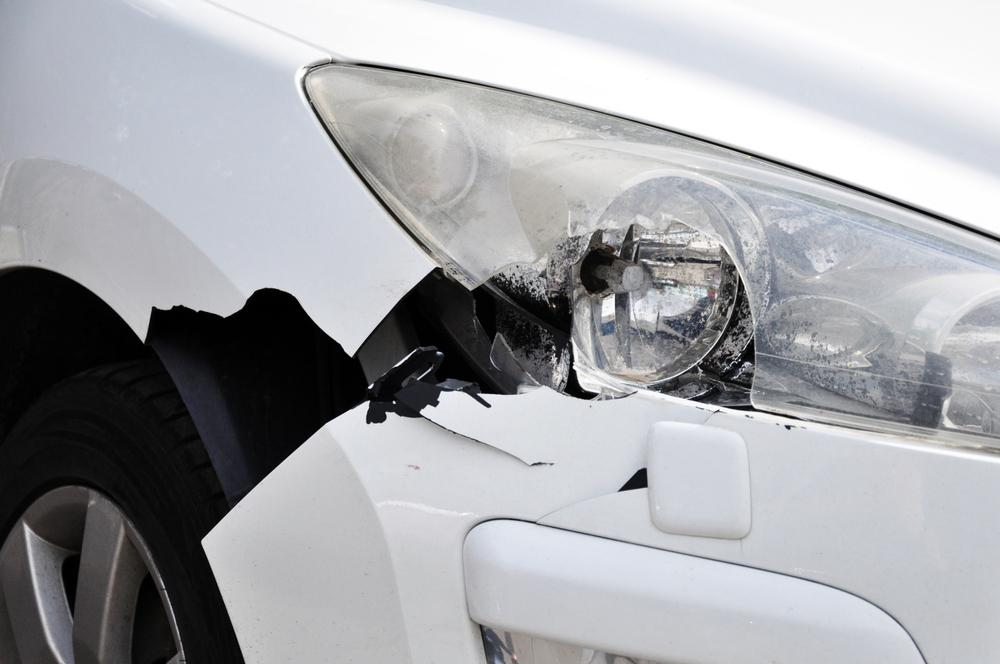crack: (392, 399, 557, 468)
lamp broken: (304, 62, 1000, 454)
